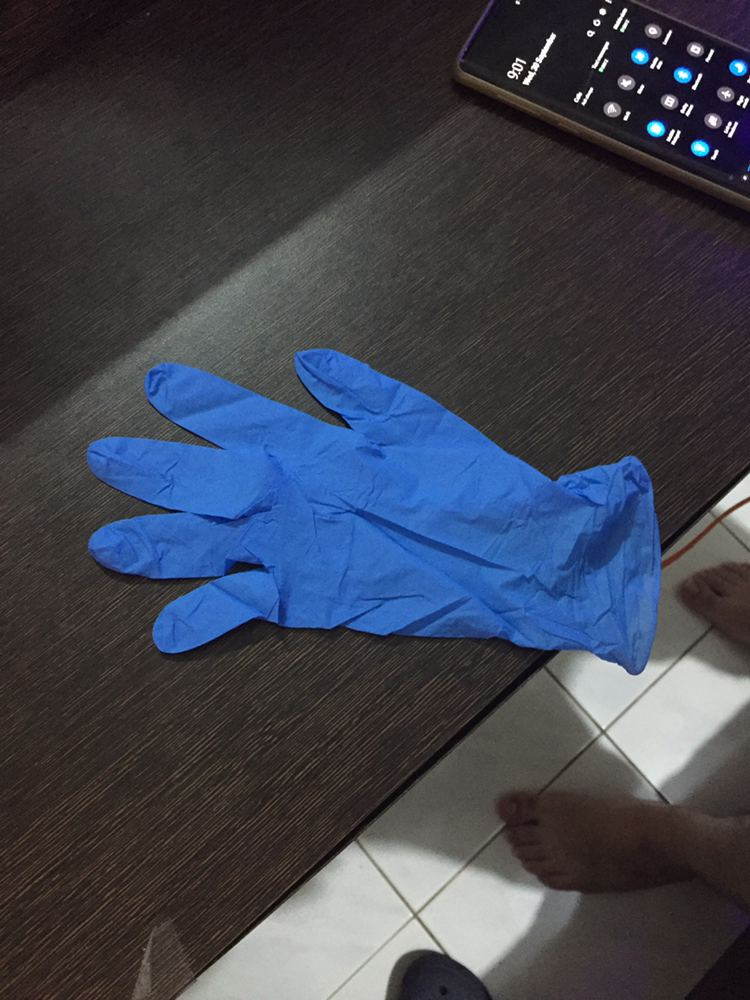glove: (65, 330, 588, 746)
